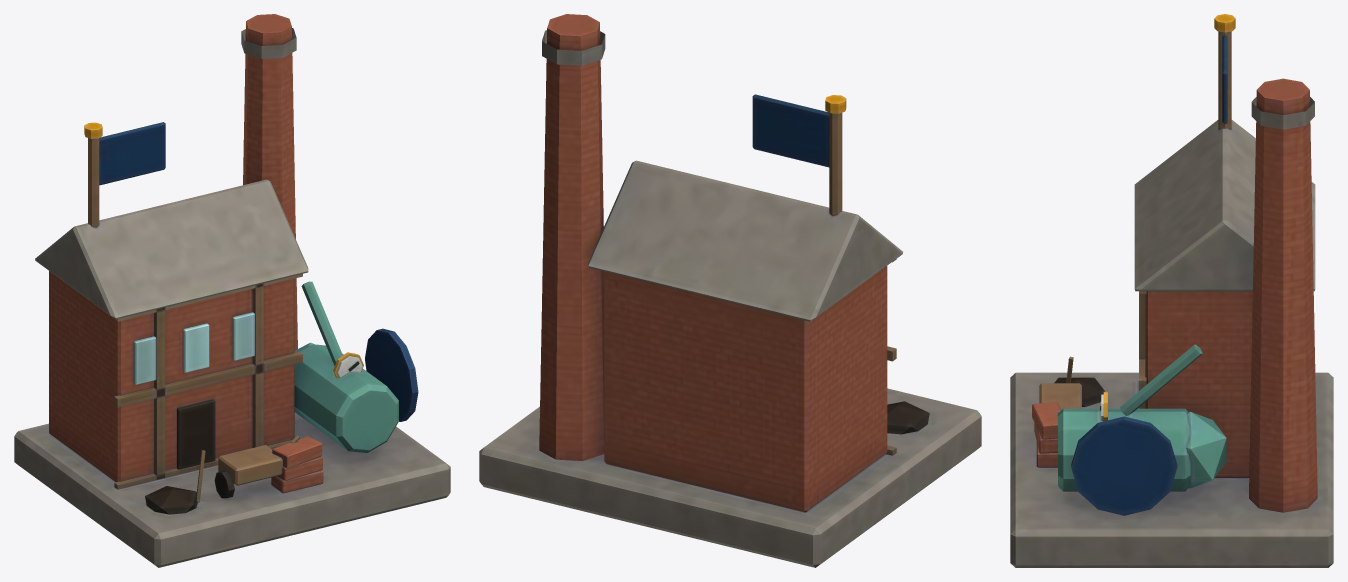
Rendered from refinery-10.glb.
3 renders of one model, left to right at view 1: azimuth 30°, elevation 25°; view 2: azimuth 150°, elevation 25°; view 3: azimuth 270°, elevation 25°, orthographic. The views are drawn at different scales.
Visible parts, largest first — view 1: refinery-10; view 2: refinery-10; view 3: refinery-10.
Boxes of the visible parts, x1,y1,x2,y2 form: refinery-10: (14,14,450,567); refinery-10: (479,14,981,567); refinery-10: (1010,14,1333,567).
Size of the model in its own units: 1.44 by 1.86 by 1.22.
1 material, 1 textured.
